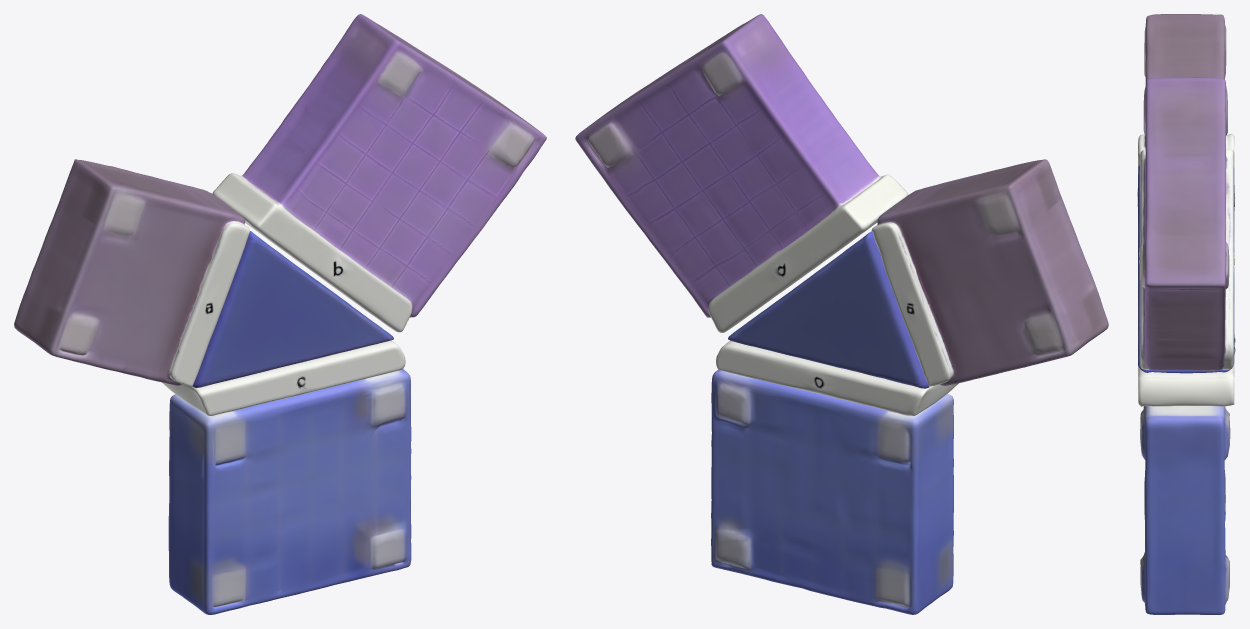
Rendered from pythagorean-345-pbr.fbx.
3 renders of one model, left to right at view 1: azimuth 30°, elevation 25°; view 2: azimuth 150°, elevation 25°; view 3: azimuth 270°, elevation 25°, orthographic.
Visible parts, largest first — view 1: model_LOD0; view 2: model_LOD0; view 3: model_LOD0.
Boxes of the visible parts, x1,y1,x2,y2 form: model_LOD0: [14, 14, 546, 614]; model_LOD0: [575, 14, 1108, 614]; model_LOD0: [1137, 14, 1235, 614].
Size of what is drawn, in the model's own units: 186 by 190 by 31.83.
1 material, 1 textured.
